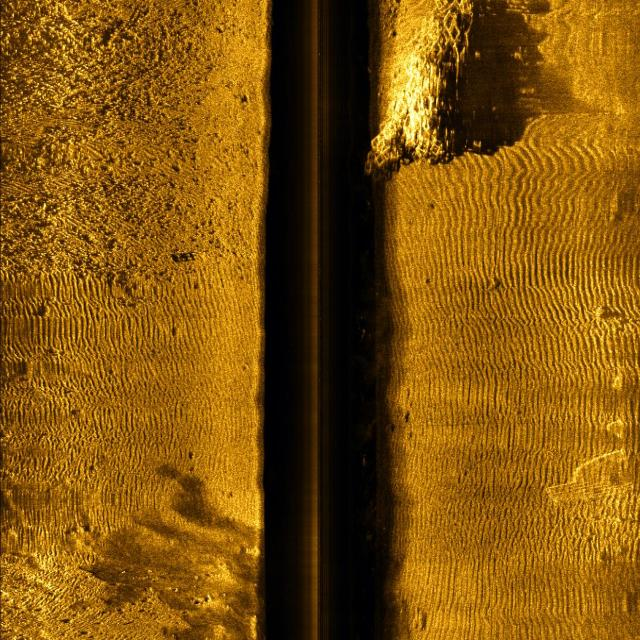artificial reef: (360, 0, 483, 180)
